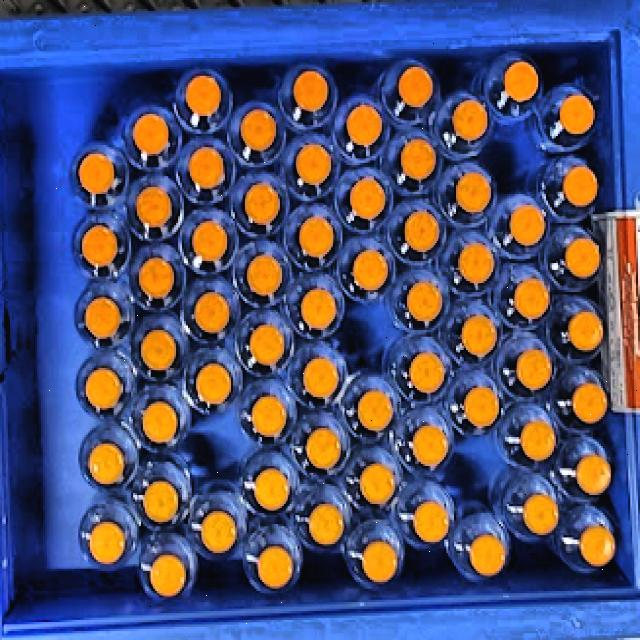vial: (141, 400, 179, 444), (411, 424, 448, 469), (140, 329, 178, 372), (451, 98, 489, 141), (142, 480, 179, 524), (349, 177, 386, 221), (258, 545, 294, 590), (404, 209, 440, 254), (356, 390, 394, 432), (460, 315, 498, 357), (512, 278, 550, 320), (88, 443, 125, 486), (85, 367, 122, 410), (361, 541, 398, 584), (412, 501, 449, 544), (469, 534, 506, 577), (251, 395, 288, 438), (195, 363, 232, 406), (84, 296, 121, 339), (515, 349, 552, 392), (458, 242, 495, 285), (562, 165, 599, 208), (292, 70, 329, 113), (150, 554, 186, 598), (89, 521, 125, 565), (254, 467, 290, 511), (522, 494, 559, 536), (571, 382, 608, 424), (302, 357, 339, 399), (352, 249, 389, 291), (78, 152, 115, 194), (132, 113, 169, 155), (359, 463, 395, 506), (305, 427, 341, 470), (194, 292, 230, 335), (249, 323, 285, 366), (139, 256, 175, 299), (185, 74, 221, 117), (240, 108, 276, 151), (346, 104, 382, 147), (400, 138, 436, 181), (564, 238, 601, 279), (509, 205, 546, 246), (191, 221, 228, 262), (81, 225, 118, 266), (135, 187, 172, 228), (579, 526, 615, 568), (464, 386, 500, 428), (300, 288, 336, 330), (409, 352, 445, 394), (568, 310, 604, 352), (455, 172, 491, 214), (406, 281, 442, 323), (299, 216, 335, 258), (244, 182, 280, 224), (189, 147, 225, 189), (398, 66, 434, 108), (309, 503, 344, 546), (504, 60, 539, 103), (520, 420, 556, 461), (246, 255, 282, 296), (295, 144, 331, 185), (559, 94, 595, 135), (201, 511, 236, 553), (576, 454, 611, 496)
